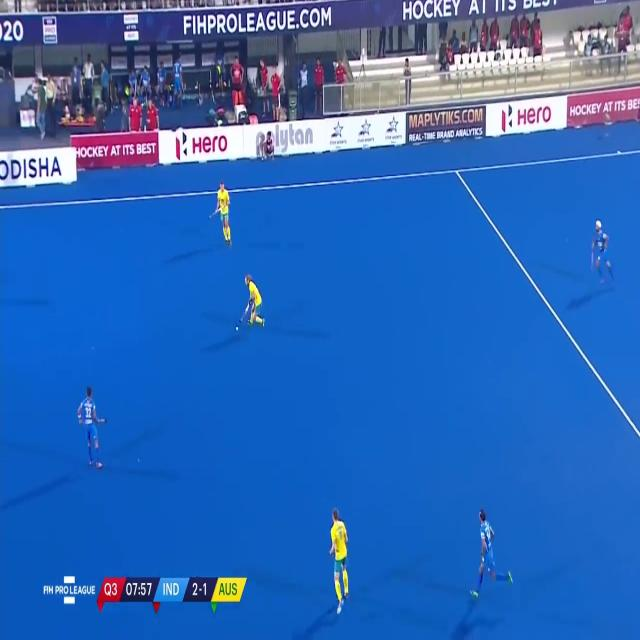ball: (232, 316, 243, 335)
